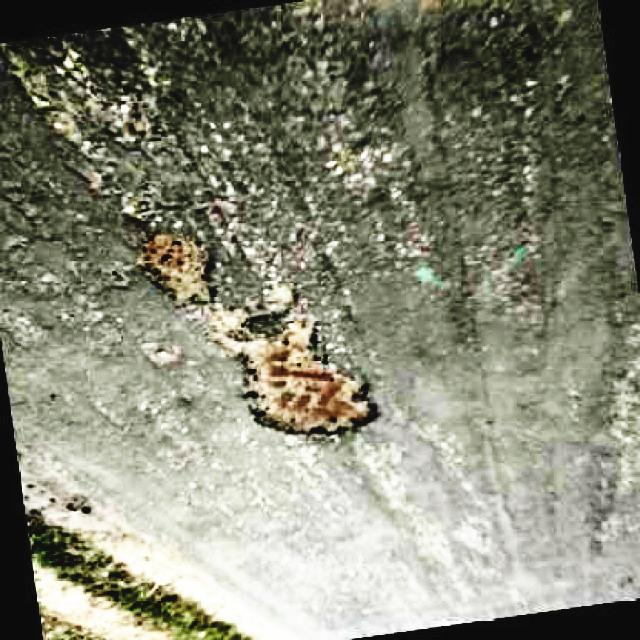pothole: (138, 229, 384, 434)
